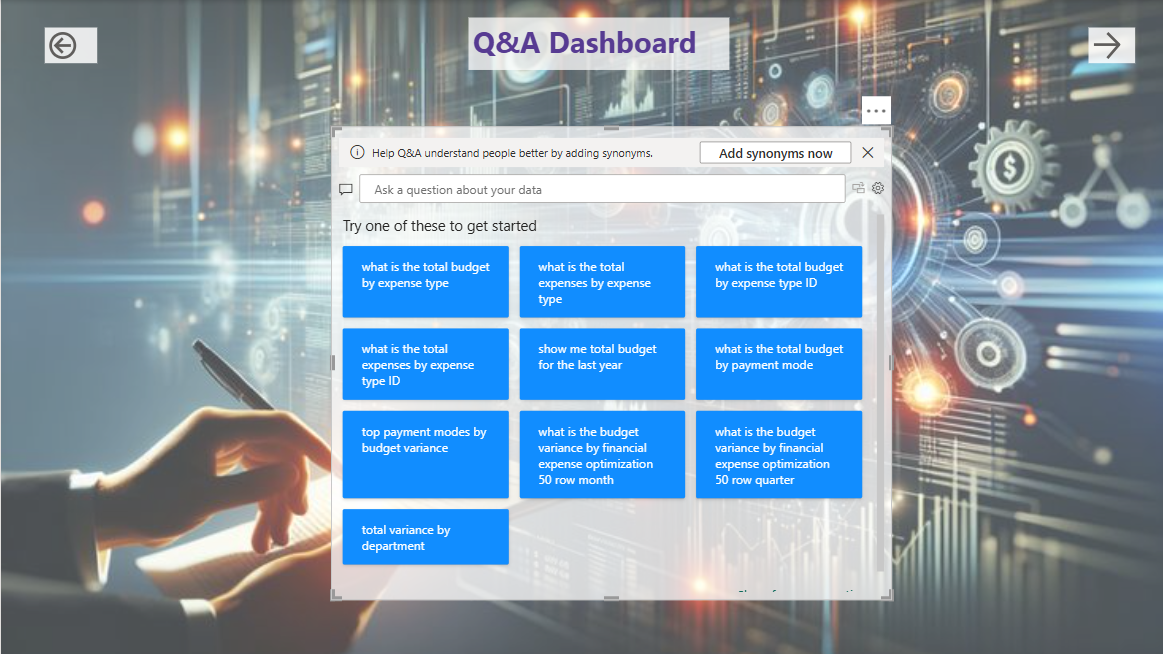

The page's visual inventory and layout, read from the dashboard file:
{"tool":"powerbi","page":{"name":"Q&A Dashboard","canvas":[1280,720],"ordinal":5},"visuals":[{"type":"qnaVisual","box":[348.7,145.4,615.4,519.5],"z":0},{"type":"actionButton","box":[48,29.6,57.9,39.5],"z":1},{"type":"actionButton","box":[1194.2,29.6,50.8,39.5],"z":2},{"type":"textbox","box":[513.8,19.8,286.5,57.9],"z":3}]}

Visuals, with their boxes in screenshot pixels (x1, y1, x2, y2), scaled from the page's 1280x720 canvas onto the 1163x654 screenshot:
qnaVisual: l=317, t=132, r=876, b=604
actionButton: l=44, t=27, r=96, b=63
actionButton: l=1085, t=27, r=1131, b=63
textbox: l=467, t=18, r=727, b=71
